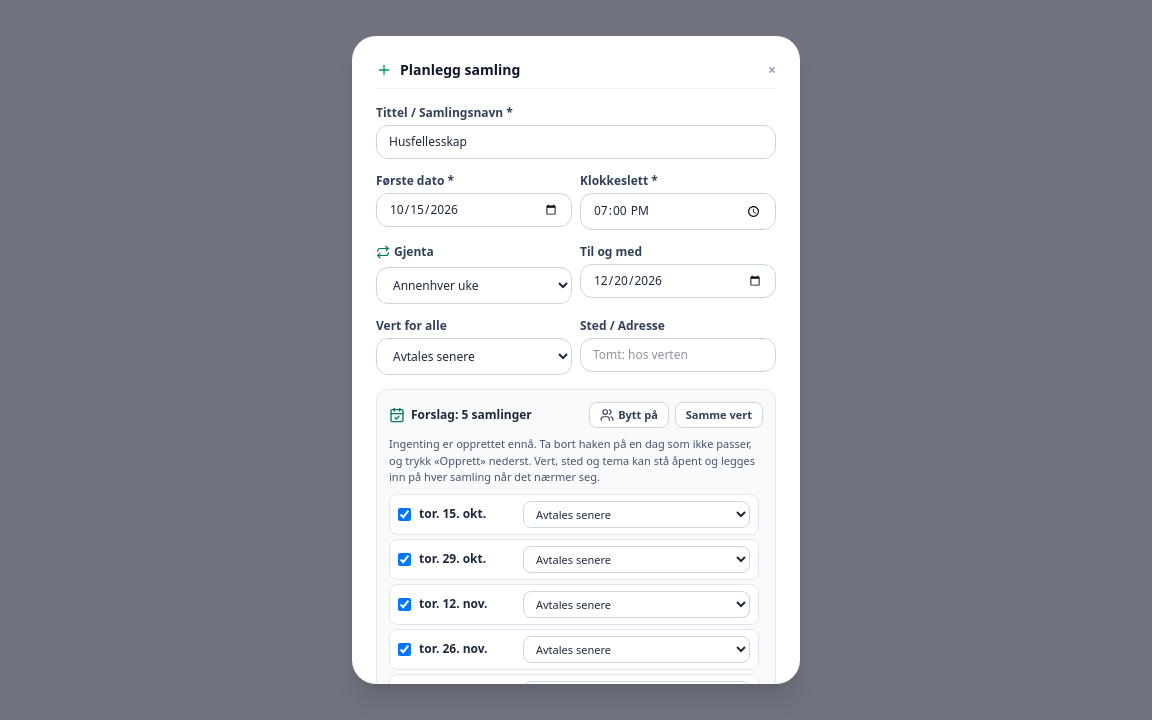
Test: En gruppe som møtes annenhver torsdag › siste dag kan flyttes, og uten noen dager kan ingenting opprettes
Type "2026-11-01" into the date field labelled "Til og med" at (678,281), box [580,264,776,298]
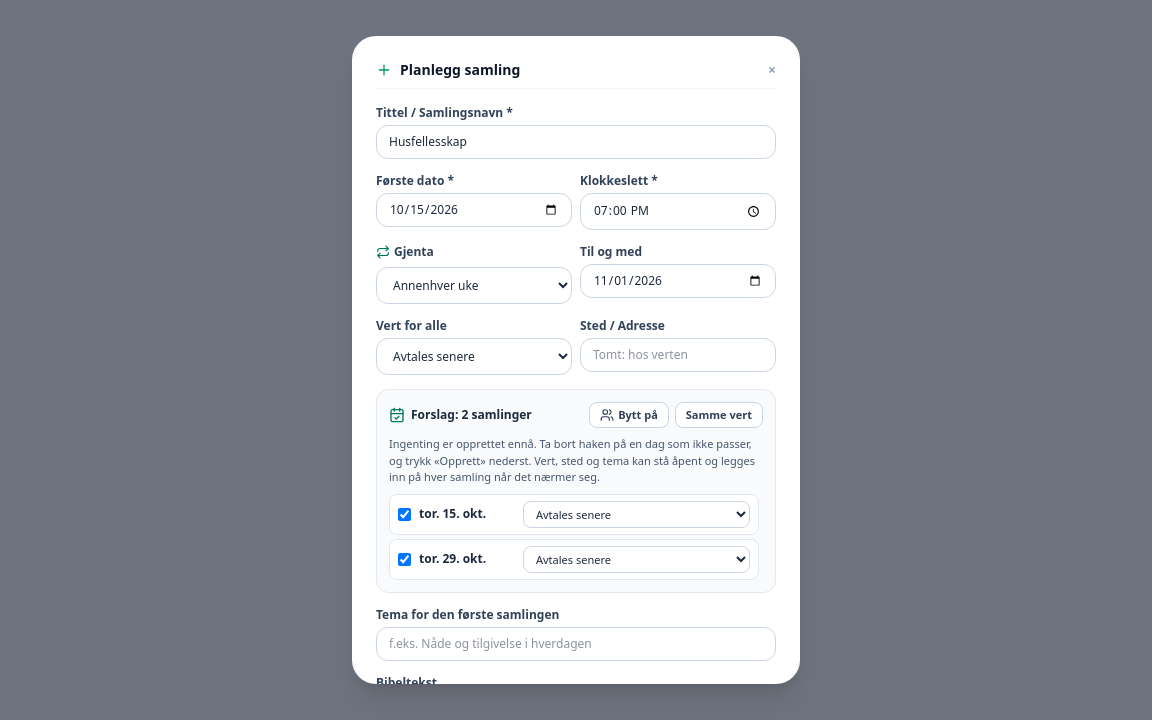
Expected: the text "Forslag: 2 samlinger" is shown, [411,407,532,423]
Click the checkbox labelled "tor. 15. okt." at (404,514), box [398,508,411,521]
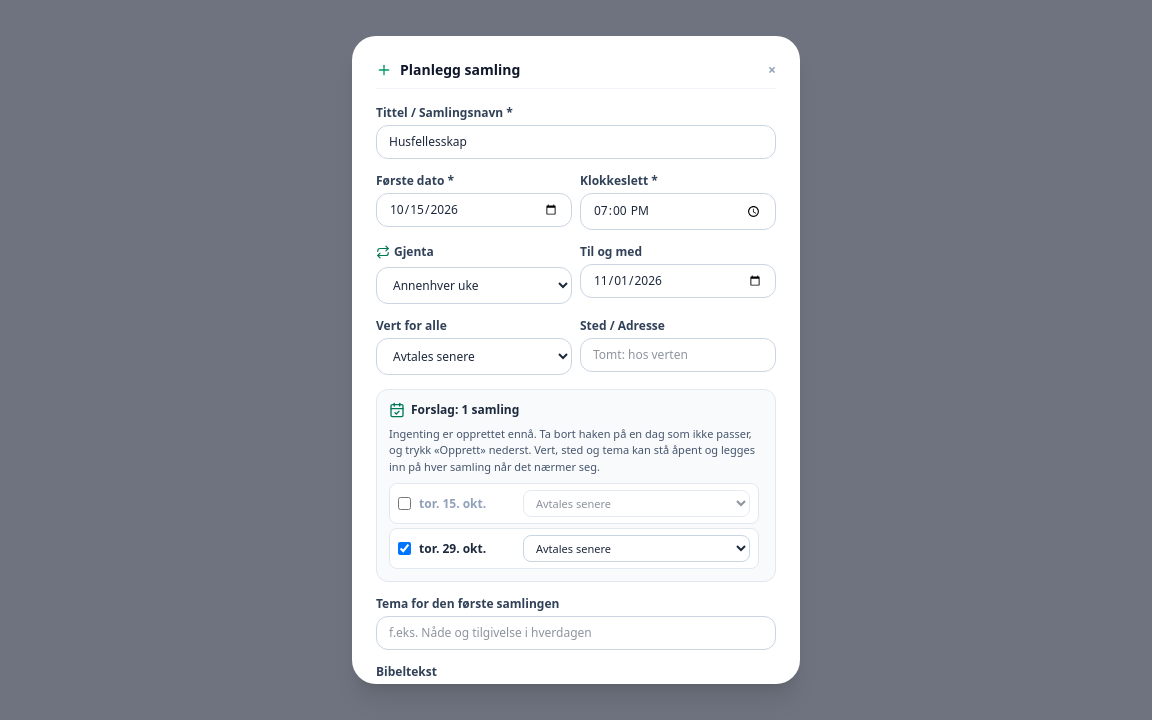
Click the checkbox labelled "tor. 29. okt." at (404,549), box [398,542,411,555]
(page scrolled)
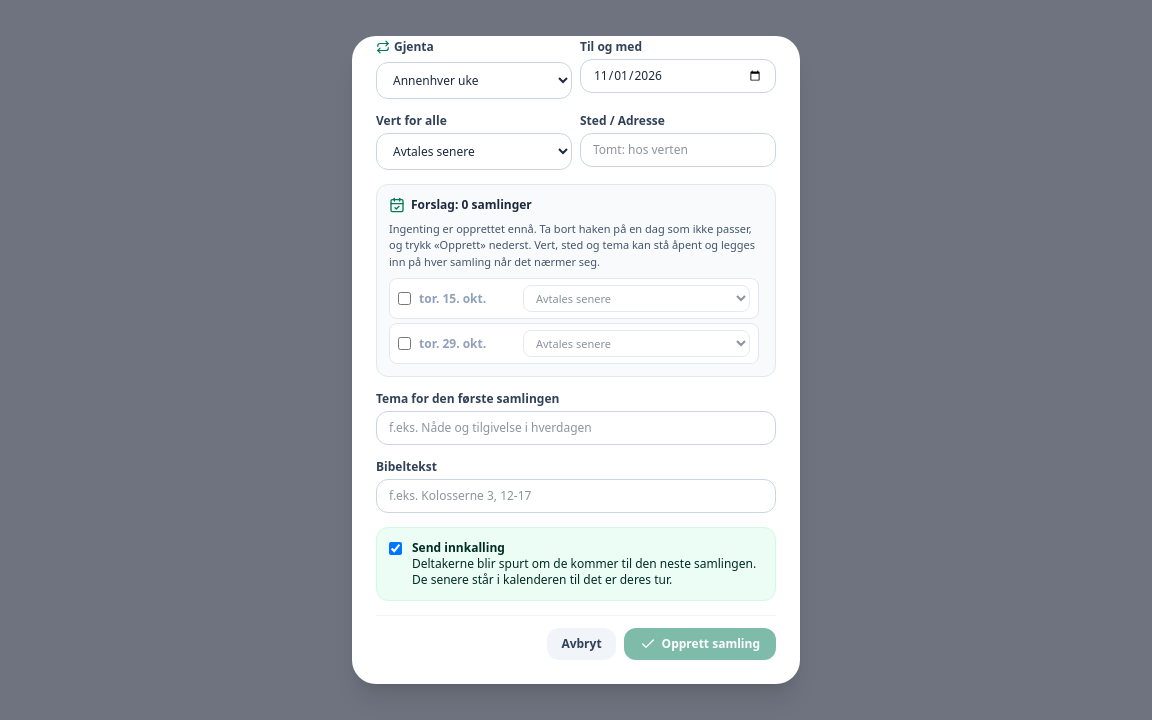
Expected: the button "Opprett samling" is disabled, [624,628,776,660]
